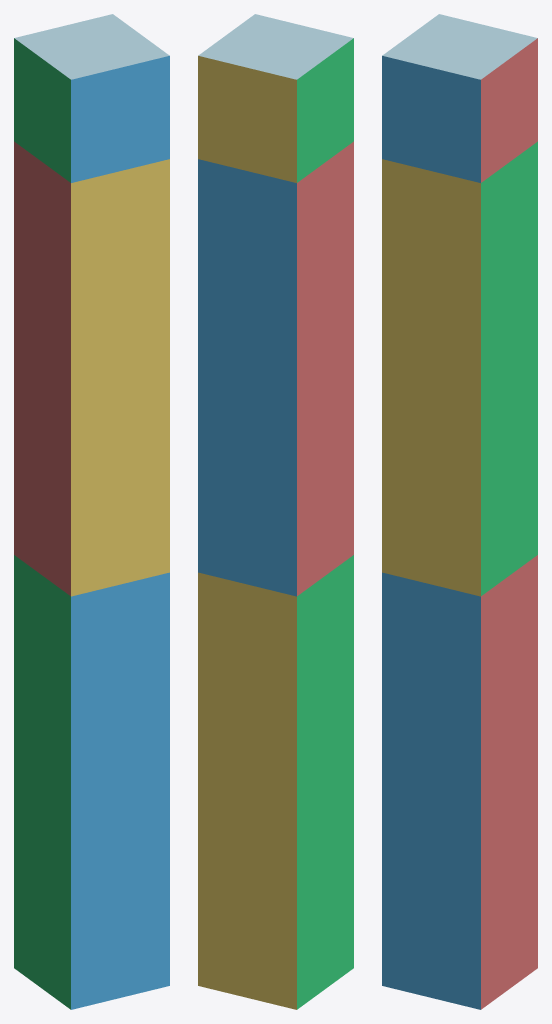
3 views of the same model, side by side, from view 1: azimuth 30°, elevation 25°; view 2: azimuth 150°, elevation 25°; view 3: azimuth 330°, elevation 25° (orthographic).
Parts seen in each view (by area): view 1: arm1, arm2, cube; view 2: arm1, arm2, cube; view 3: arm1, arm2, cube.
Part boxes in pixels (x1,y1,x2,y2): arm1: [14, 555, 169, 1009]; arm2: [14, 141, 169, 596]; cube: [14, 14, 169, 182]; arm1: [198, 555, 353, 1009]; arm2: [198, 141, 353, 596]; cube: [198, 14, 353, 182]; arm1: [382, 555, 537, 1009]; arm2: [382, 141, 537, 596]; cube: [382, 14, 537, 182].
Bounding box in the file's own units: 0.125 × 1.12 × 0.125.
1 material, 1 textured.
